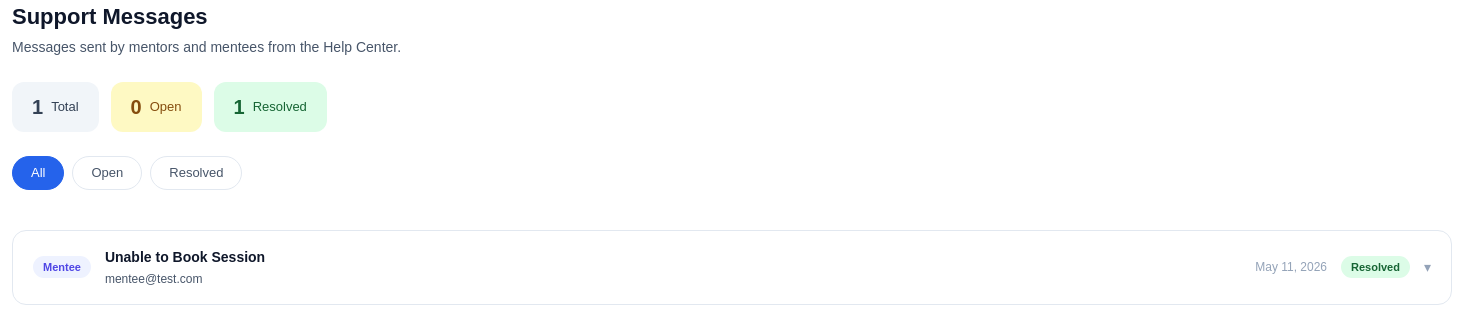
Test: AdminSupportMessages Component Suite › Tab Filtering Mechanics › should render alternative message texts when active filters map to blank content sets
Expected: the text "Unable to Book Session" is shown, [105,248,265,264]
Switch to open filter where length is 0 to trigger alternative empty label text
Click the button "open" at (107,173), box [72,156,142,190]
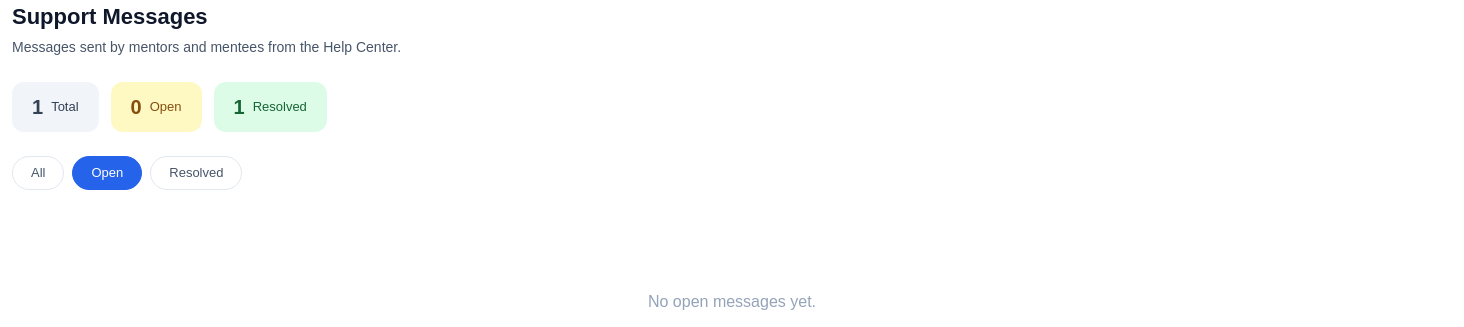
Result: the text "No open messages yet." is shown at [648,292,816,310]
